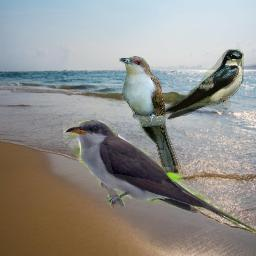Cuckoo: (63, 120, 255, 236), (119, 56, 184, 182)
Swallow: (163, 49, 244, 120)
